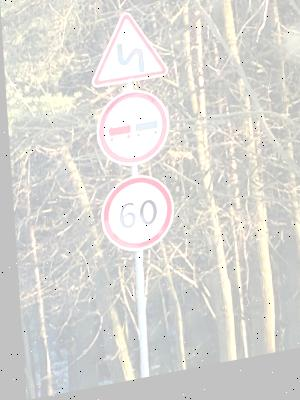Speed Limit -60-: (93, 172, 173, 261)
